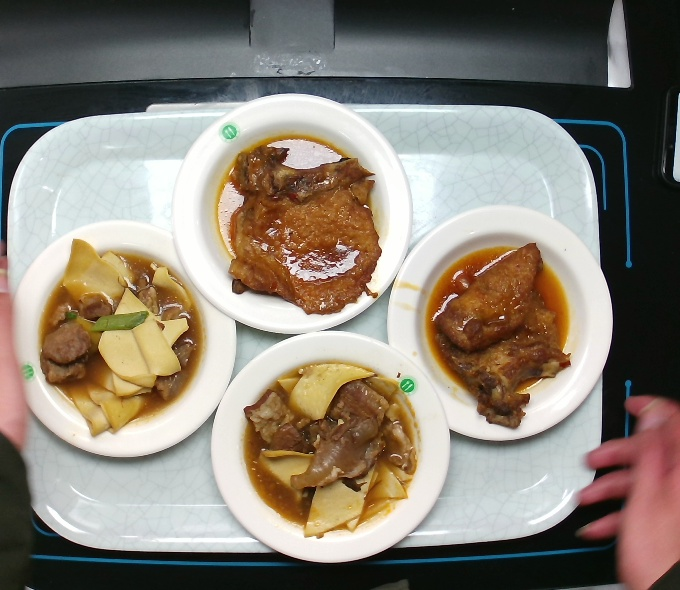wcq-DaPai: (215, 134, 386, 317), (425, 240, 574, 429)
wcq-QianZhangNiuRou: (243, 361, 420, 532), (39, 250, 205, 429)
